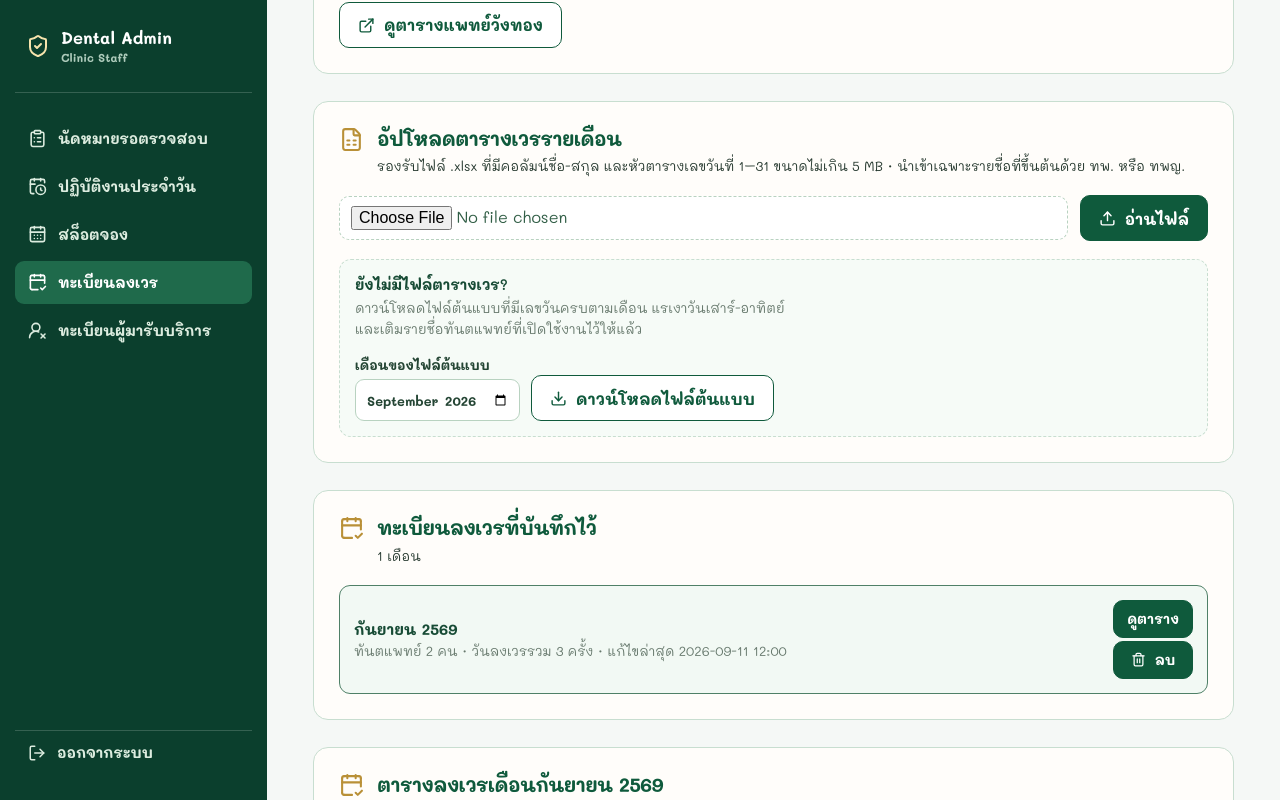
Scenario: clinic SPA › downloads a duty roster template for the selected month
(page scrolled)
Replace the text in the field labelled "เดือนของไฟล์ต้นแบบ" with "2026-10". click: (438, 400)
box: [355,379,520,421]
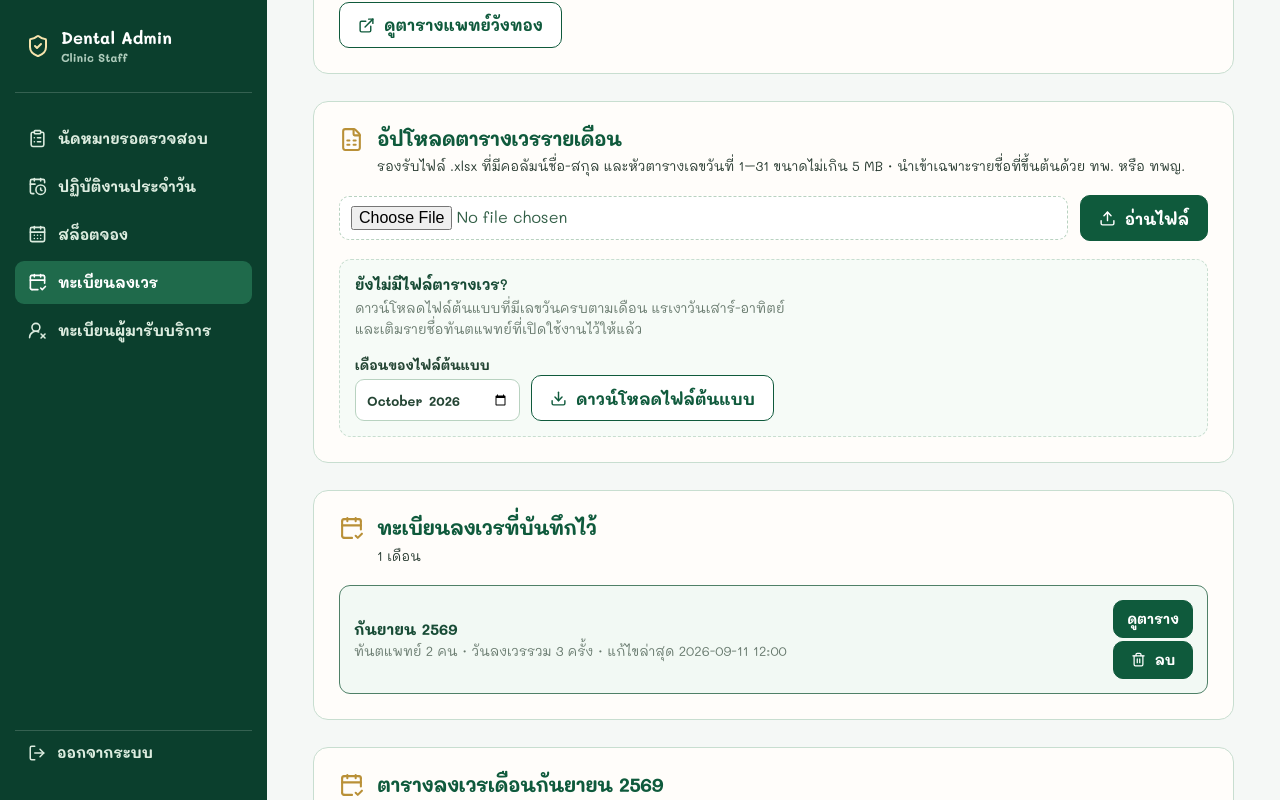
Click the button "ดาวน์โหลดไฟล์ต้นแบบ". click: (652, 398)
box: [531,375,774,421]
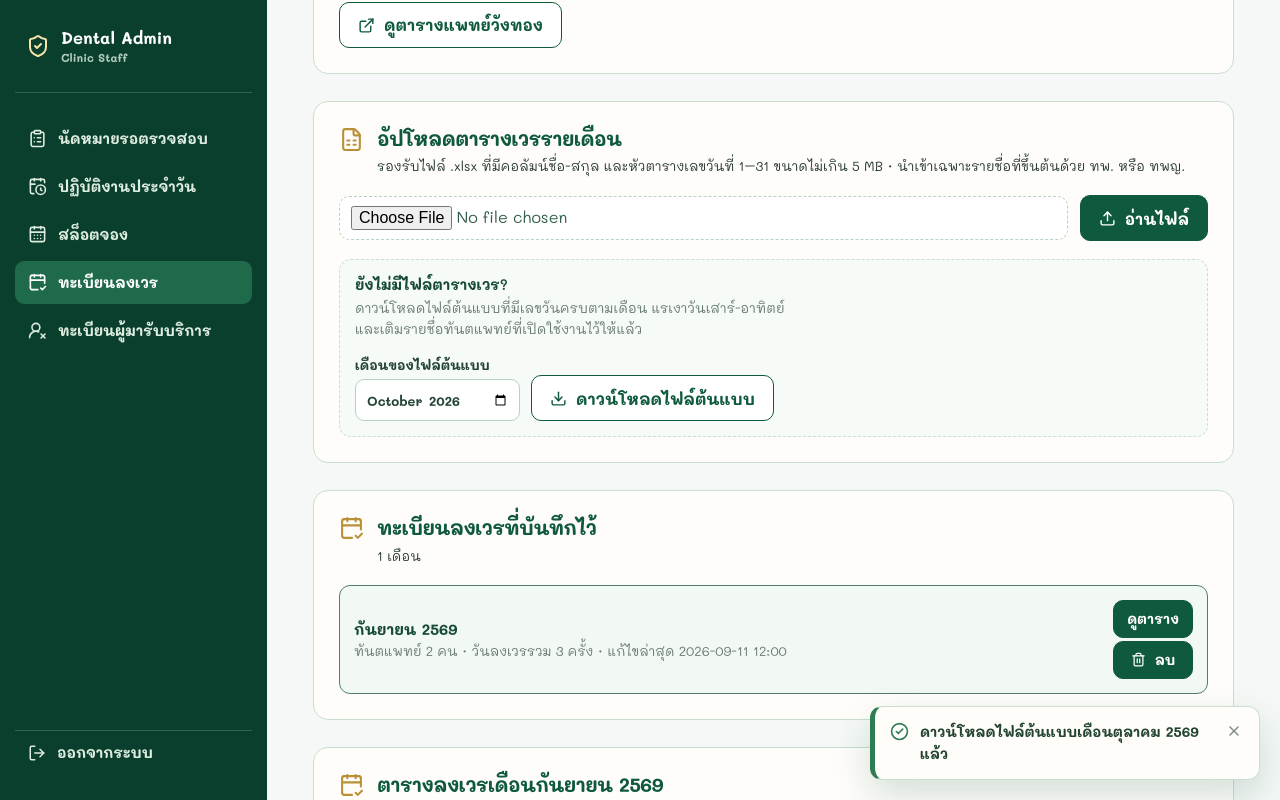
Expected: the text "ดาวน์โหลดไฟล์ต้นแบบเดือนตุลาคม 2569 แล้ว" is shown, [920,721,1213,765]
